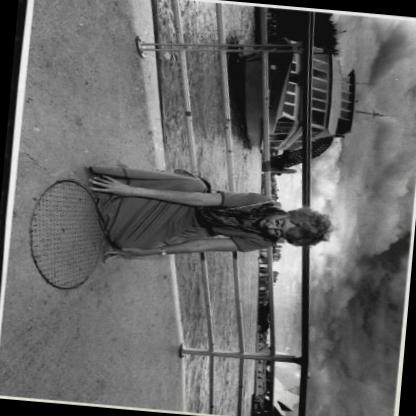manholes: (0, 160, 132, 330)
